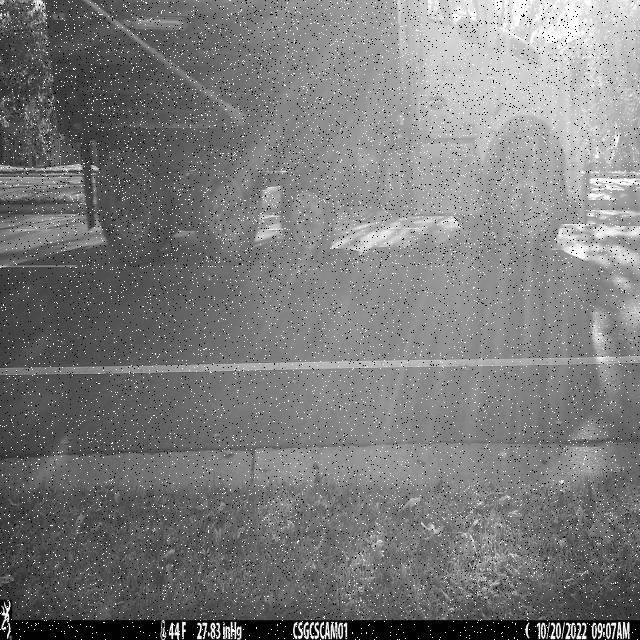Box Truck: (42, 0, 590, 268)
